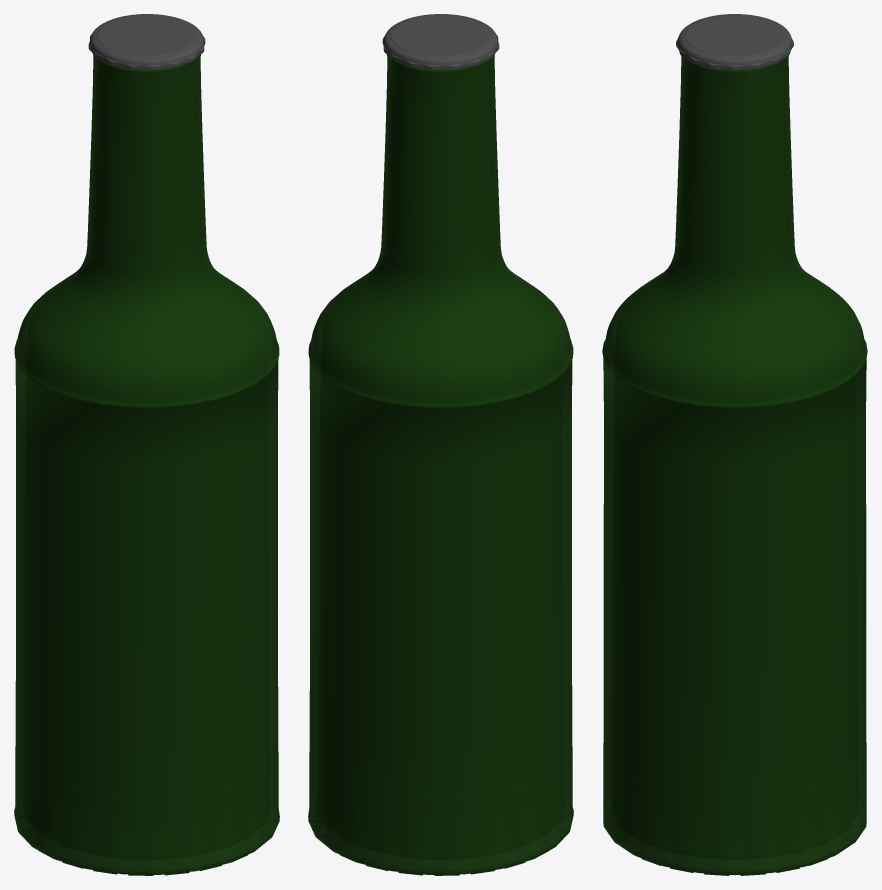
Rendered from bottle.FBX.
3 views of the same model, side by side, from view 1: azimuth 30°, elevation 25°; view 2: azimuth 150°, elevation 25°; view 3: azimuth 270°, elevation 25° (orthographic).
Visible parts, largest first — view 1: Bottle, BottleCap; view 2: Bottle, BottleCap; view 3: Bottle, BottleCap.
Boxes of the visible parts, left/top/right/bottom form: Bottle: left=14, top=53, right=279, bottom=875; BottleCap: left=88, top=14, right=205, bottom=70; Bottle: left=308, top=53, right=573, bottom=875; BottleCap: left=382, top=14, right=499, bottom=70; Bottle: left=602, top=55, right=867, bottom=875; BottleCap: left=676, top=14, right=793, bottom=70.
Bounding box in the file's own units: 38.83 × 127 × 38.73.
